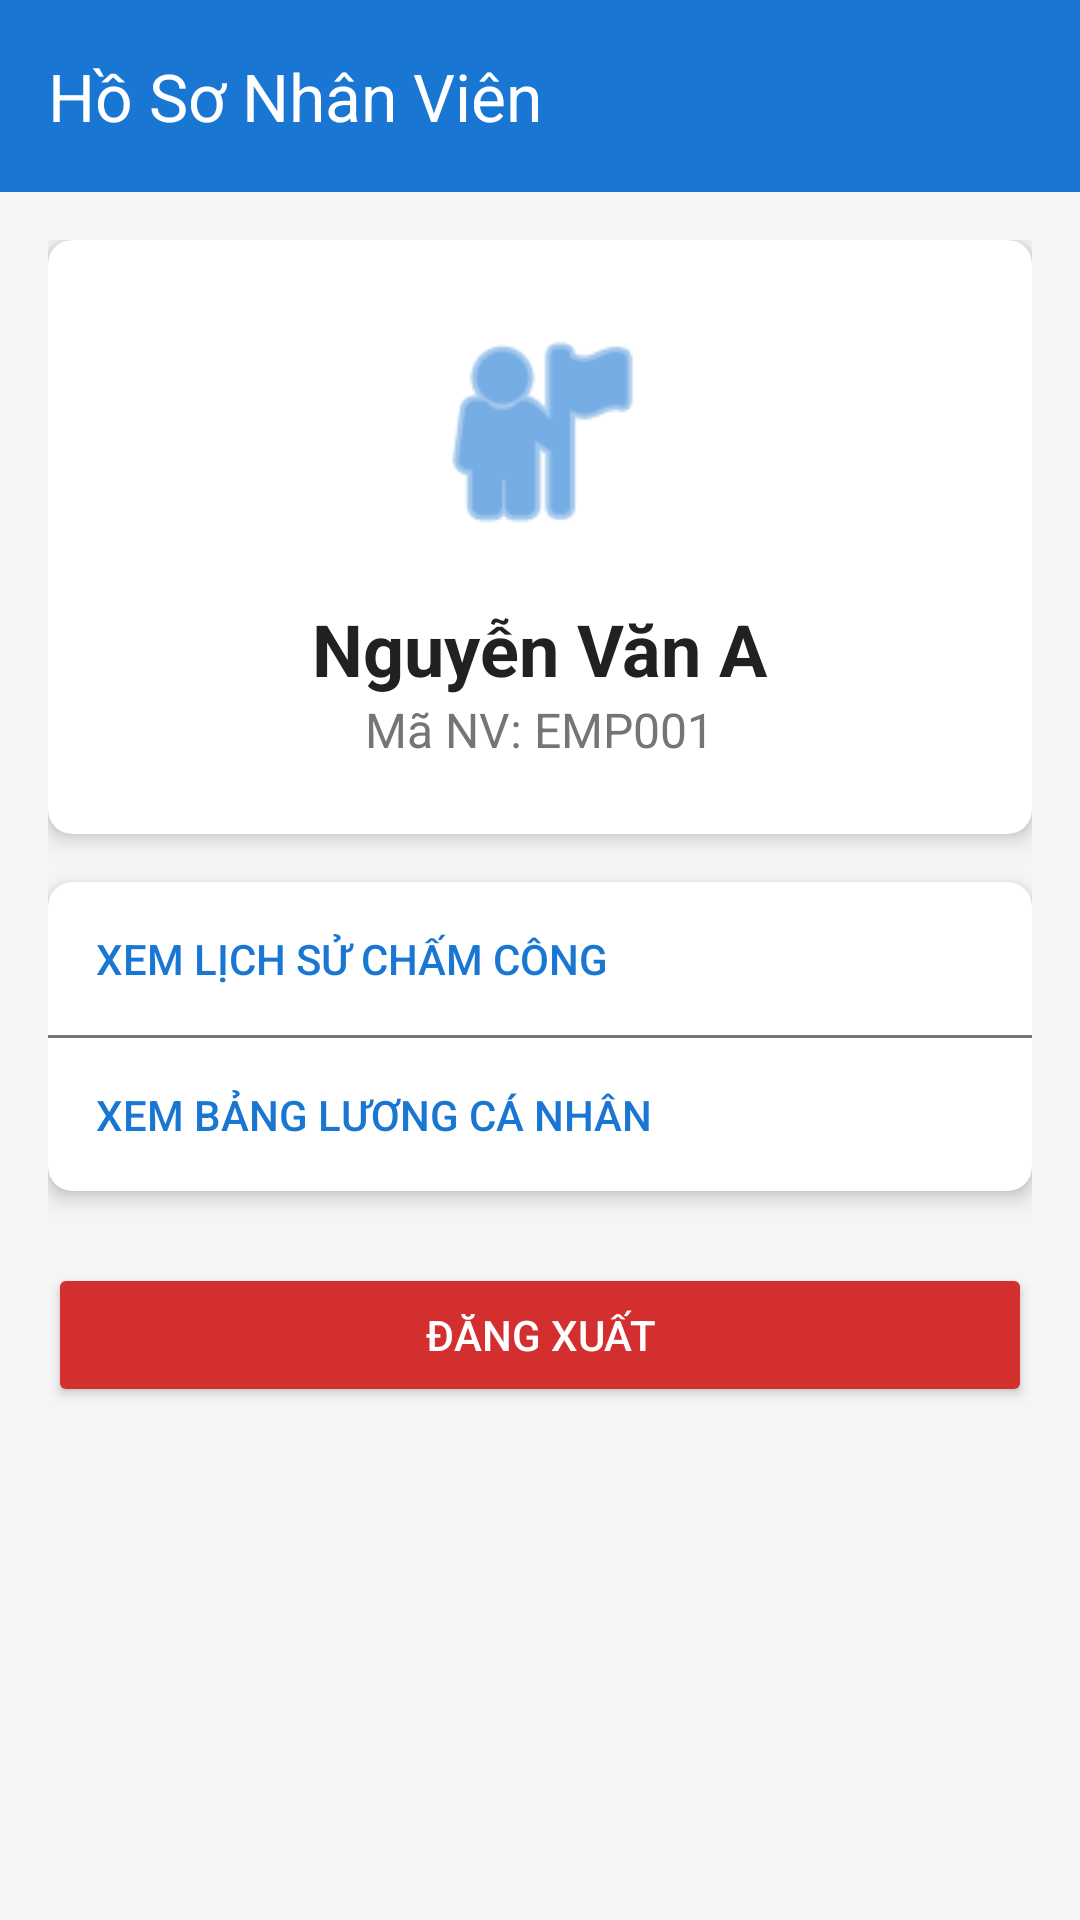

Icons on this 1080*1920 Android screen, each with the point to tap as (x=x, y=y):
Avatar: (x=542, y=432)
